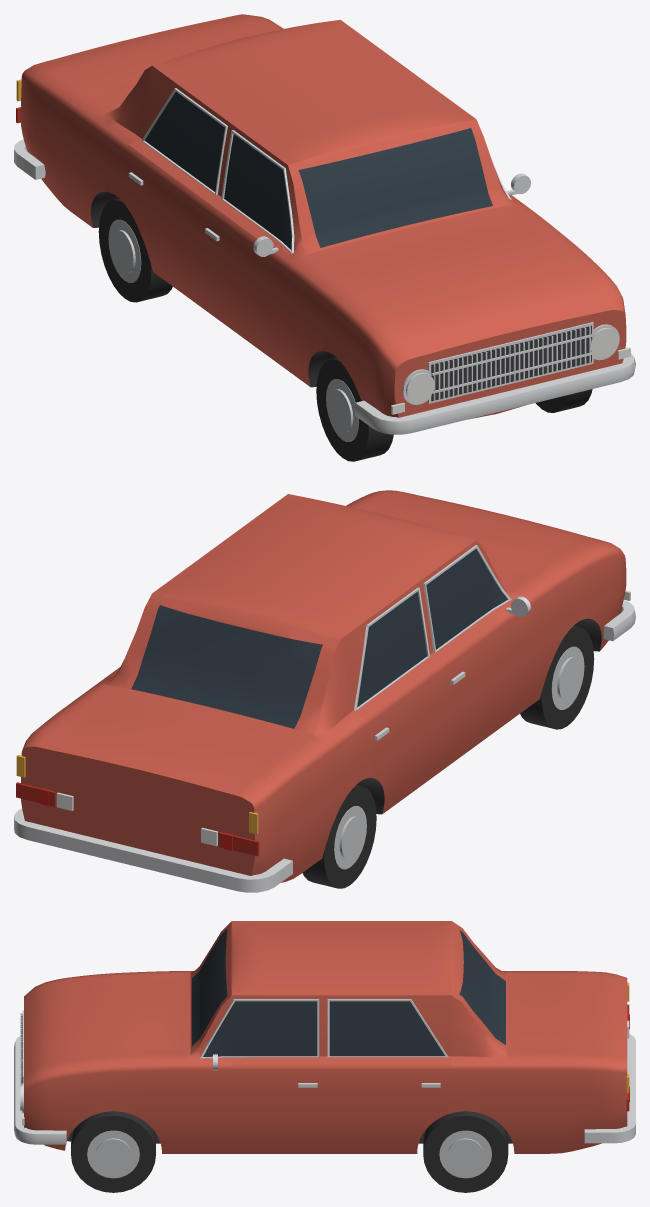
The model's file is moskvich412.glb.
The picture shows the model from 3 angles, top to bottom: view 1: azimuth 30°, elevation 25°; view 2: azimuth 150°, elevation 25°; view 3: azimuth 270°, elevation 25°; orthographic projection. The views are drawn at different scales.
Parts seen in each view (by area): view 1: paint, glass, trim, wheel_rr, wheel_fr, headlights, mirrors, wheel_fl; view 2: paint, glass, trim, wheel_rr, wheel_fr, taillights; view 3: paint, glass, wheel_rl, wheel_fl, trim.
Boxes of the visible parts, <box> form: paint: <box>21,14,626,427</box>; glass: <box>145,92,492,249</box>; trim: <box>14,88,635,434</box>; wheel_rr: <box>98,198,172,302</box>; wheel_fr: <box>316,358,393,461</box>; headlights: <box>406,328,618,402</box>; mirrors: <box>253,173,530,256</box>; wheel_fl: <box>535,389,592,412</box>; paint: <box>21,490,626,882</box>; glass: <box>131,549,507,728</box>; trim: <box>14,545,635,892</box>; wheel_rr: <box>302,785,376,888</box>; wheel_fr: <box>520,626,594,729</box>; taillights: <box>16,782,259,856</box>; paint: <box>24,921,627,1153</box>; glass: <box>192,928,505,1056</box>; wheel_rl: <box>423,1111,508,1192</box>; wheel_fl: <box>71,1111,155,1192</box>; trim: <box>14,999,635,1144</box>.
Bounding box in the file's own units: 1.75 × 1.48 × 4.24.
